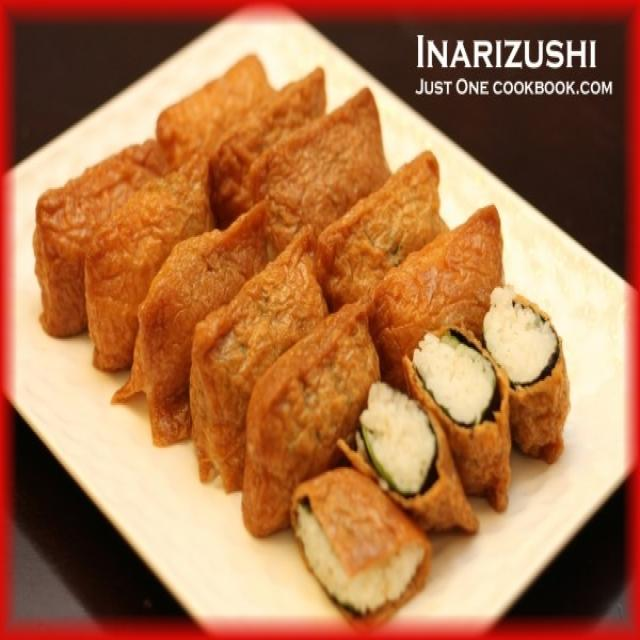寿司卷物: (17, 33, 620, 610)
